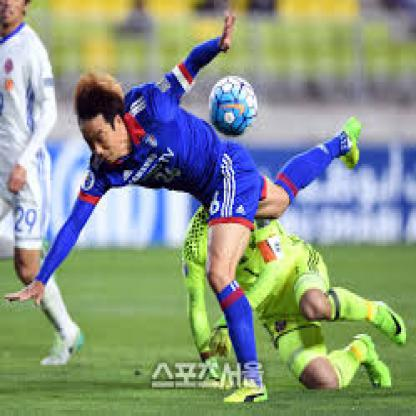Fall_Down: (4, 10, 363, 407)
